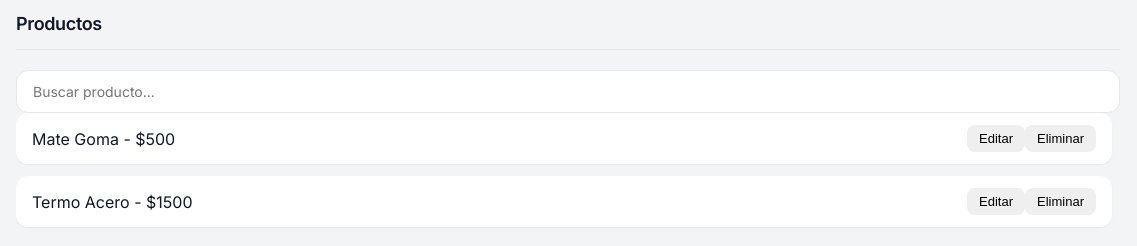
Test case: ProductList › filters products by search input
Type "Mate" into the field with placeholder "Buscar producto...".
click(568, 92); type("Mate")  # box [16,70,1120,113]
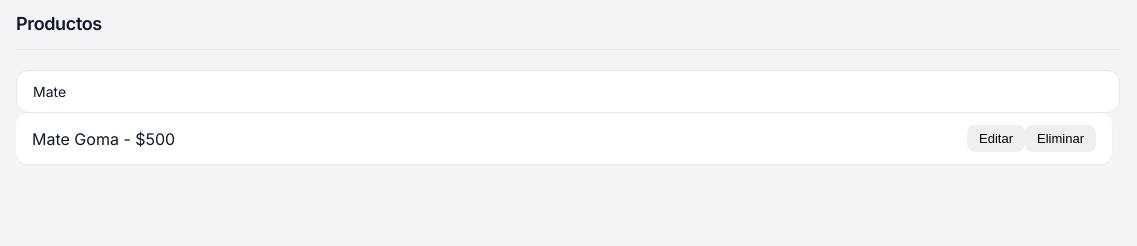
Expected: the text "Mate Goma - $500" is shown, [32,126,175,150]
Result: the text "Termo Acero - $1500" is gone
